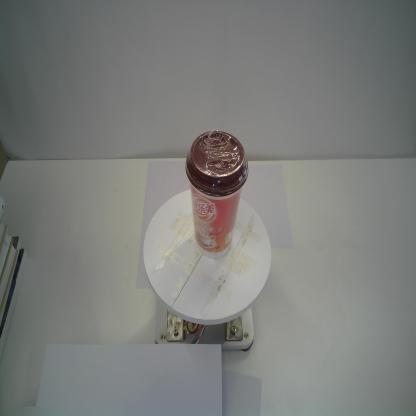Instant Drink: (185, 128, 250, 260)
